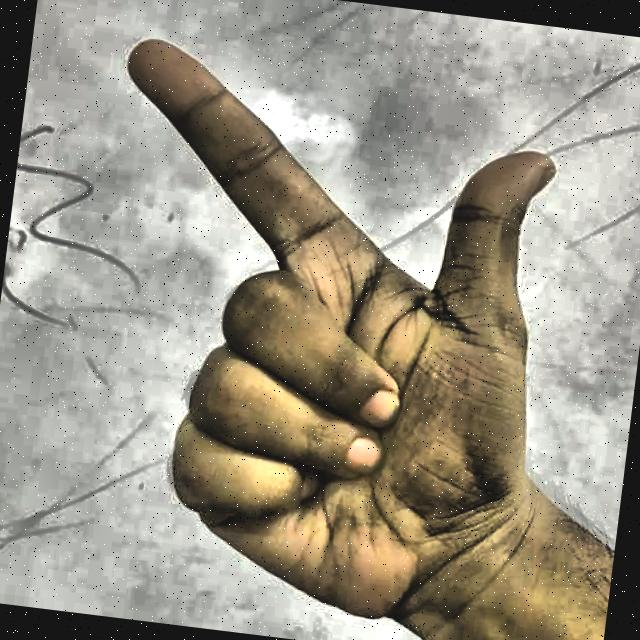Tha: (37, 0, 612, 640)
